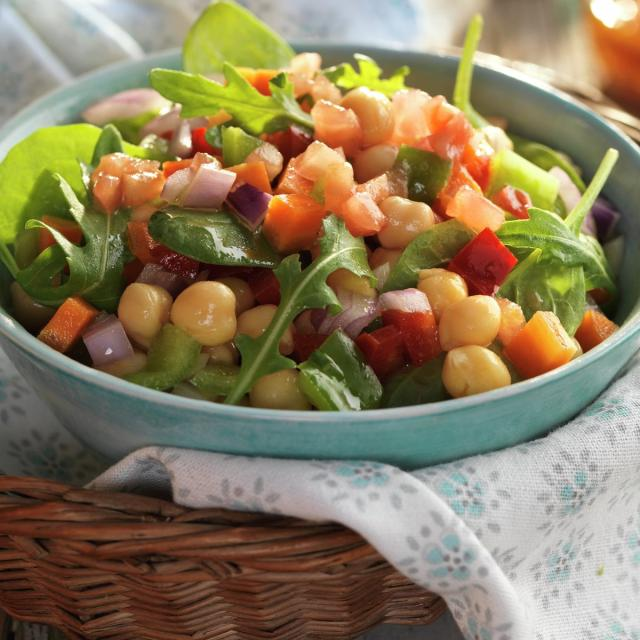garbanzos: (9, 36, 635, 444)
